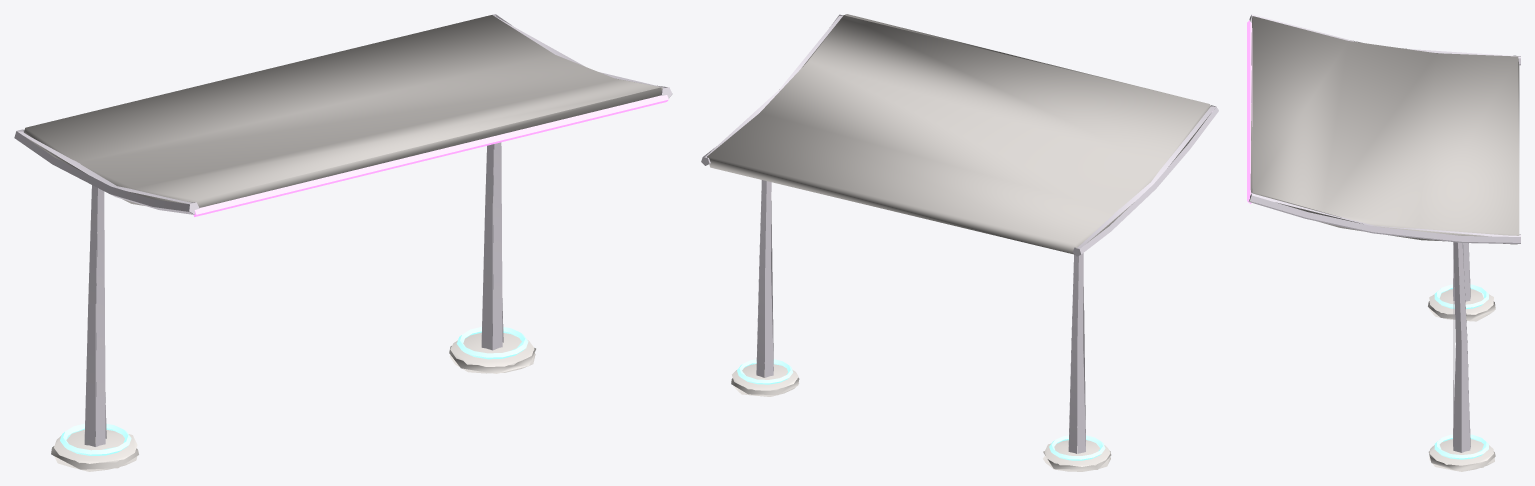
Rendered from lod_canopy_curved.glb.
The picture shows the model from 3 angles, left to right: view 1: azimuth 30°, elevation 25°; view 2: azimuth 150°, elevation 25°; view 3: azimuth 270°, elevation 25°; orthographic projection. The views are drawn at different scales.
Visible parts, largest first — view 1: canopy_curved; view 2: canopy_curved; view 3: canopy_curved.
Boxes of the visible parts, box(x1,y1,x2,y2) form: canopy_curved: box(14, 14, 672, 471); canopy_curved: box(701, 14, 1218, 471); canopy_curved: box(1247, 14, 1520, 471).
Size of the model in its own units: 5.11 by 3.67 by 3.24.
